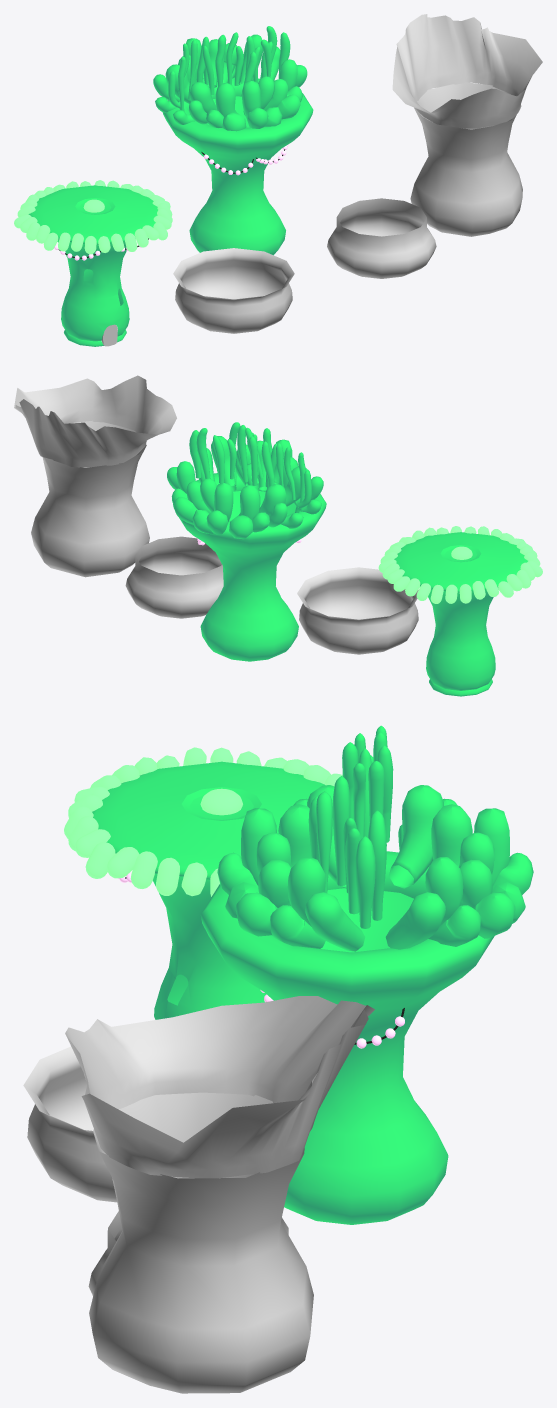
Rendered from Bioluminescent village.fbx.
The picture shows the model from 3 angles, top to bottom: view 1: azimuth 30°, elevation 25°; view 2: azimuth 150°, elevation 25°; view 3: azimuth 270°, elevation 25°; orthographic projection. The views are drawn at different scales.
Visible parts, largest first — view 1: Forro_1, Forro, Torno_1, Torno_Nulo_, Torno_4, casa3, botton, top, botton_1; view 2: Torno_Nulo_, Forro, Torno_1, Forro_1, Torno_4, casa3, botton_1, top, botton; view 3: Forro, Torno_1, Forro_1, Torno_Nulo_, botton_1, botton, top, Torno_4, Esfera.
Part boxes in pixels (x1,y1,x2,y2): Forro_1: (392,14,542,128); Forro: (410,82,522,236); Torno_1: (162,77,313,255); Torno_Nulo_: (28,185,157,346); Torno_4: (173,248,294,333); casa3: (327,198,436,278); botton: (173,59,307,131); top: (168,26,290,111); botton_1: (153,34,280,112); Torno_Nulo_: (394,532,527,696); Forro: (31,420,149,577); Torno_1: (173,471,326,661); Forro_1: (14,375,176,467); Torno_4: (297,567,418,654); casa3: (125,536,223,618); botton_1: (167,461,303,539); top: (189,422,311,512); botton: (199,436,323,514); Forro: (89,1092,313,1393); Torno_1: (200,851,494,1224); Forro_1: (65,996,374,1178); Torno_Nulo_: (92,761,324,1019); botton_1: (385,785,533,949); botton: (217,785,365,951); top: (308,725,393,928); Torno_4: (23,1046,116,1202); Esfera: (200,788,242,815).
Size of the model in its own units: 601 by 268 by 262.
